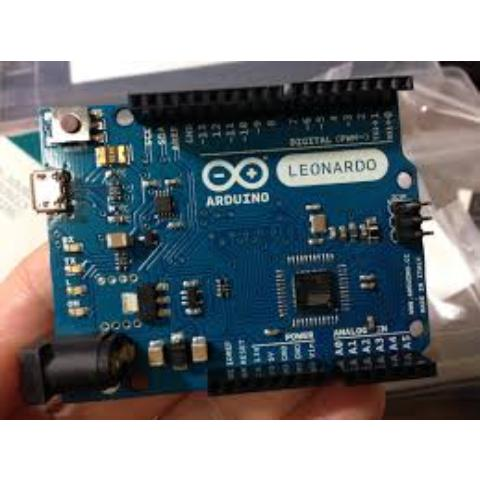Arduino-Leonardo: (17, 74, 471, 403)
